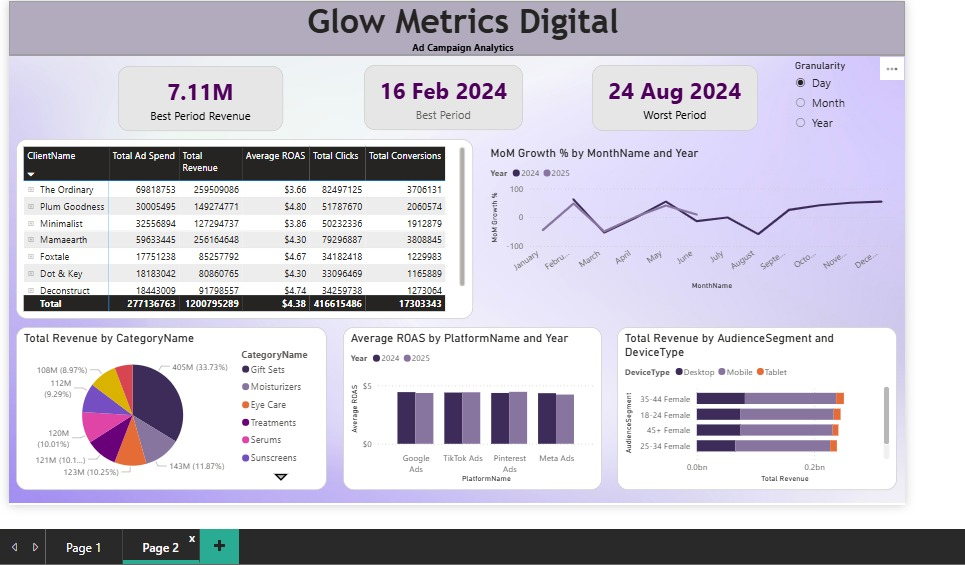

The dashboard page shown, as its layout file describes it:
{"tool":"powerbi","page":{"name":"Page 2","canvas":[1280,720],"ordinal":1},"visuals":[{"type":"pivotTable","fields":{"Rows":["DIM_Clients.ClientName","DIM_Clients.ClientTier"],"Values":["FACT_Campaigns.Total Ad Spend","FACT_Campaigns.Total Revenue","FACT_Campaigns.Average ROAS","FACT_Campaigns.Total Clicks","FACT_Campaigns.Total Conversions"]},"box":[10,197.1,652.9,257.1],"z":0},{"type":"pieChart","fields":{"Category":["DIM_ProductCategory.CategoryName"],"Y":["FACT_Campaigns.Total Revenue"]},"box":[10,465.7,444.3,232.9],"z":1000},{"type":"clusteredColumnChart","fields":{"Category":["DIM_Platform.PlatformName"],"Series":["DIM_Date.Year"],"Y":["FACT_Campaigns.Average ROAS"]},"box":[477.1,465.7,370,232.9],"z":2000},{"type":"card","fields":{"Values":["GranularityTable.Worst Period"]},"box":[832.4,91,236.9,93.7],"z":4000},{"type":"slicer","fields":{"Values":["GranularityTable.Granularity"]},"box":[1109.4,79,170,117.8],"z":5000},{"type":"card","fields":{"Values":["GranularityTable.Best Period Revenue"]},"box":[155.7,92.9,235.7,92.9],"z":6000},{"type":"card","fields":{"Values":["GranularityTable.Best Period"]},"box":[507.1,91.4,227.1,92.9],"z":7000},{"type":"barChart","fields":{"Category":["DIM_Audience.AudienceSegment"],"Series":["DIM_Device.DeviceType"],"Y":["FACT_Campaigns.Total Revenue"]},"box":[868.6,465.7,400,232.9],"z":11000},{"type":"lineChart","fields":{"Category":["DIM_Date.MonthName"],"Series":["DIM_Date.Year"],"Y":["FACT_Campaigns.MoM Growth %"]},"box":[683,207,586,210],"z":11001},{"type":"textbox","title":"Glow Metrics Digital","box":[0,0,1280,78],"z":11002}]}

Visuals, with their boxes on the page's 1280x720 design canvas (x1, y1, x2, y2). These are canvas units, not pixel positions in the 965x565 screenshot, which may show the page scaled, cropped or inside an application window:
pivotTable - DIM_Clients.ClientName x DIM_Clients.ClientTier: (x1=10, y1=197, x2=663, y2=454)
pieChart - DIM_ProductCategory.CategoryName x FACT_Campaigns.Total Revenue: (x1=10, y1=466, x2=454, y2=699)
clusteredColumnChart - DIM_Platform.PlatformName x DIM_Date.Year: (x1=477, y1=466, x2=847, y2=699)
card - GranularityTable.Worst Period: (x1=832, y1=91, x2=1069, y2=185)
slicer - GranularityTable.Granularity: (x1=1109, y1=79, x2=1279, y2=197)
card - GranularityTable.Best Period Revenue: (x1=156, y1=93, x2=391, y2=186)
card - GranularityTable.Best Period: (x1=507, y1=91, x2=734, y2=184)
barChart - DIM_Audience.AudienceSegment x DIM_Device.DeviceType: (x1=869, y1=466, x2=1269, y2=699)
lineChart - DIM_Date.MonthName x DIM_Date.Year: (x1=683, y1=207, x2=1269, y2=417)
"Glow Metrics Digital" textbox: (x1=0, y1=0, x2=1280, y2=78)
